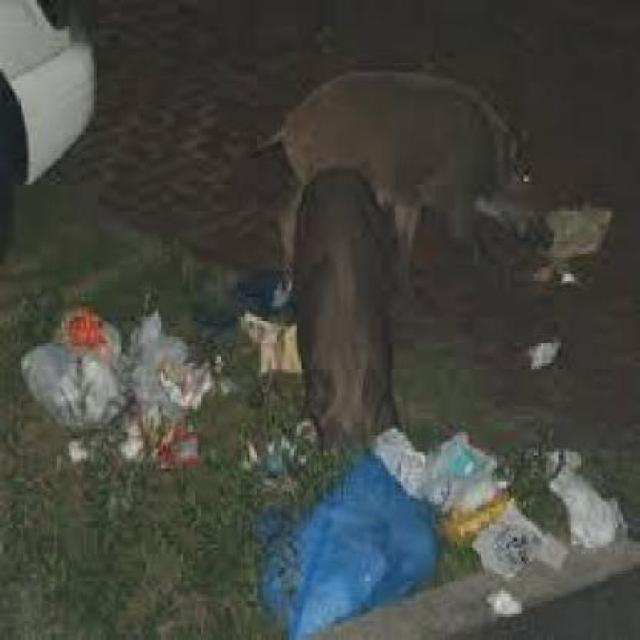wildboar: (272, 58, 563, 304), (279, 155, 412, 496)
